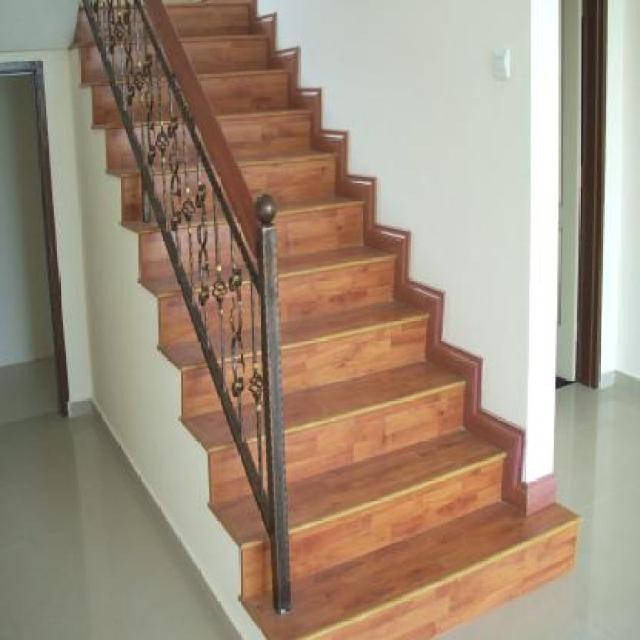stair: (58, 0, 570, 620)
